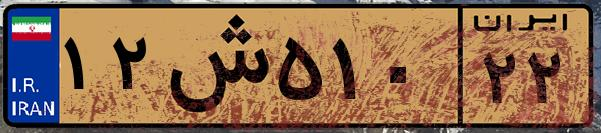0: (385, 28, 445, 110)
1: (330, 28, 385, 110), (57, 26, 110, 100)
2: (475, 38, 525, 113), (525, 38, 570, 115), (110, 28, 158, 98)
5: (270, 28, 330, 110)
ش: (158, 12, 270, 120)
